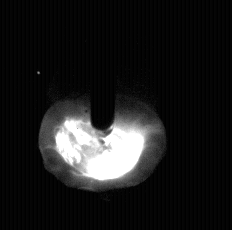arame: (91, 0, 117, 134)
poca: (38, 0, 167, 230)
